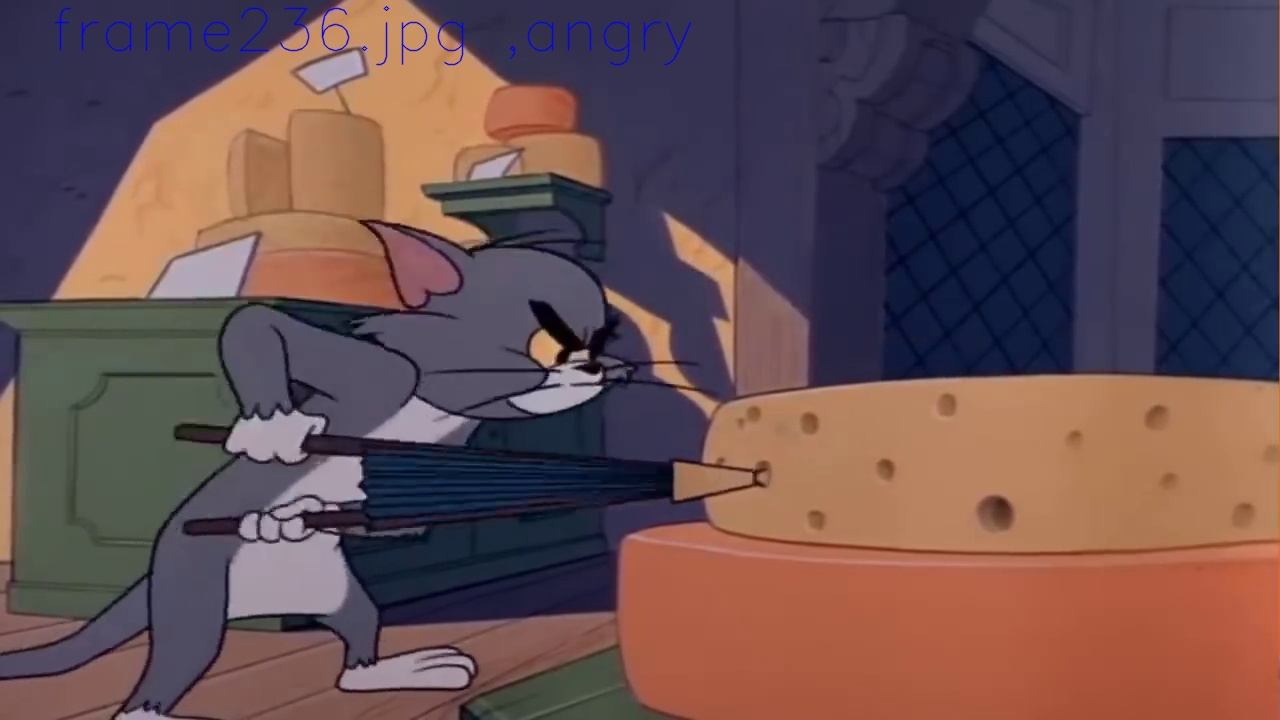angry: (529, 296, 616, 412)
